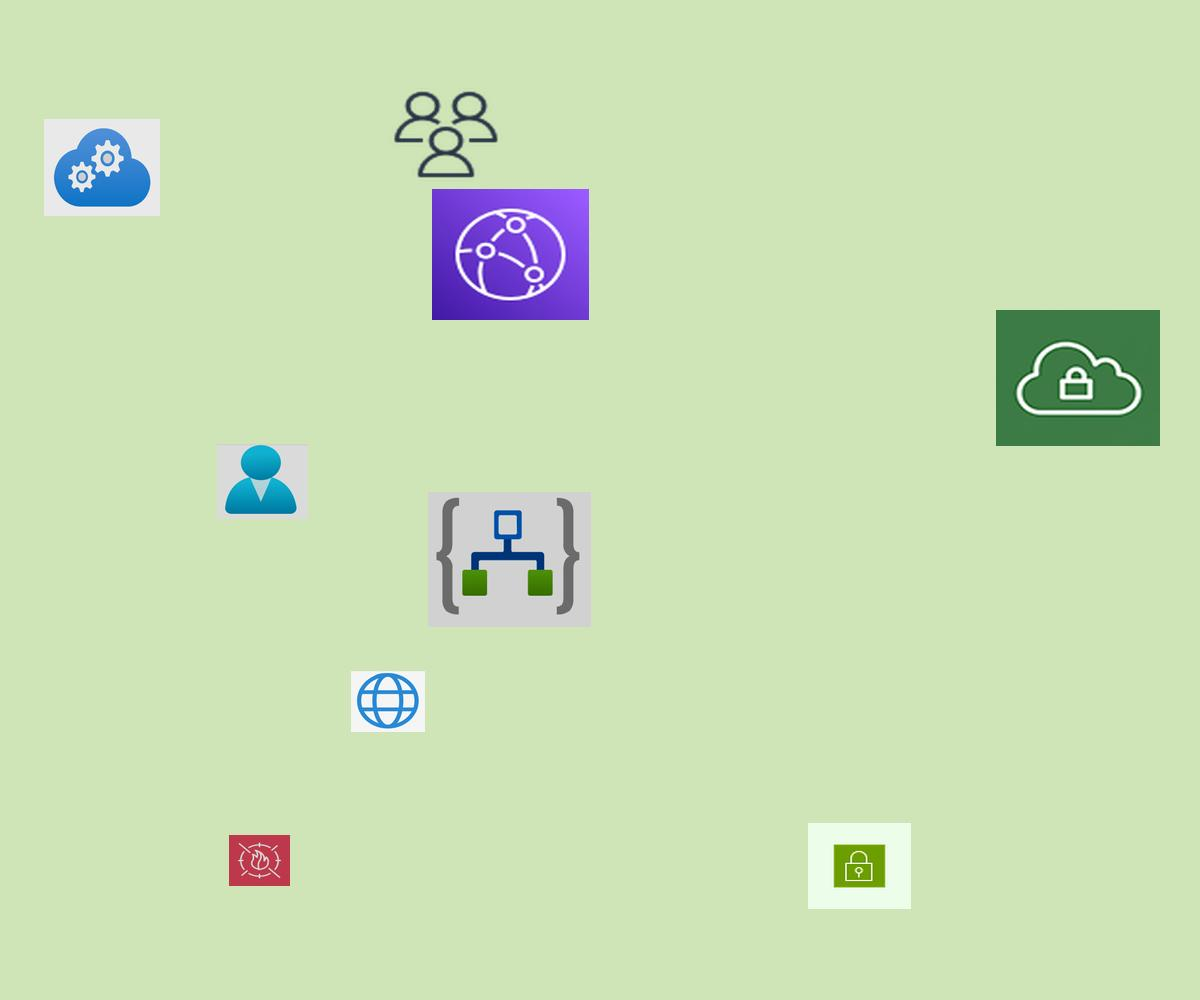AWS-CloudFront: (432, 189, 589, 320)
AWS-Private_vpc: (996, 310, 1160, 446)
AWS-Public-subnet: (808, 823, 911, 909)
AWS-Res_Users: (390, 88, 502, 181)
AWS-WAF: (229, 835, 290, 886)
Azure_cloud_services: (44, 119, 160, 216)
Azure_http: (351, 671, 425, 732)
Azure_integration-204-Logic-Apps: (428, 492, 591, 627)
Azure_users: (217, 444, 308, 519)
